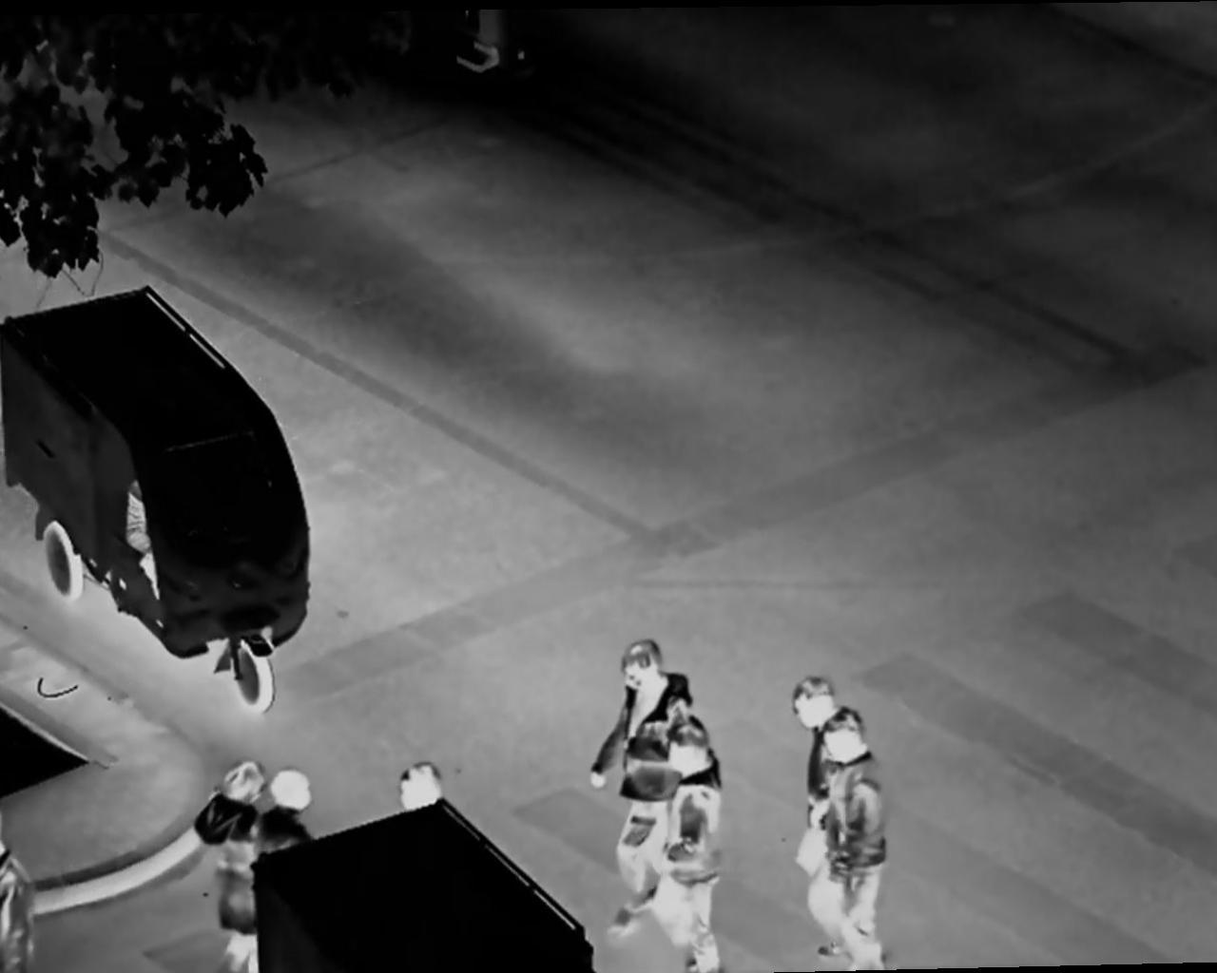person: (586, 641, 689, 940), (817, 712, 899, 969), (654, 715, 728, 968), (194, 757, 267, 962), (784, 673, 834, 951), (249, 767, 313, 861), (393, 768, 454, 830)
